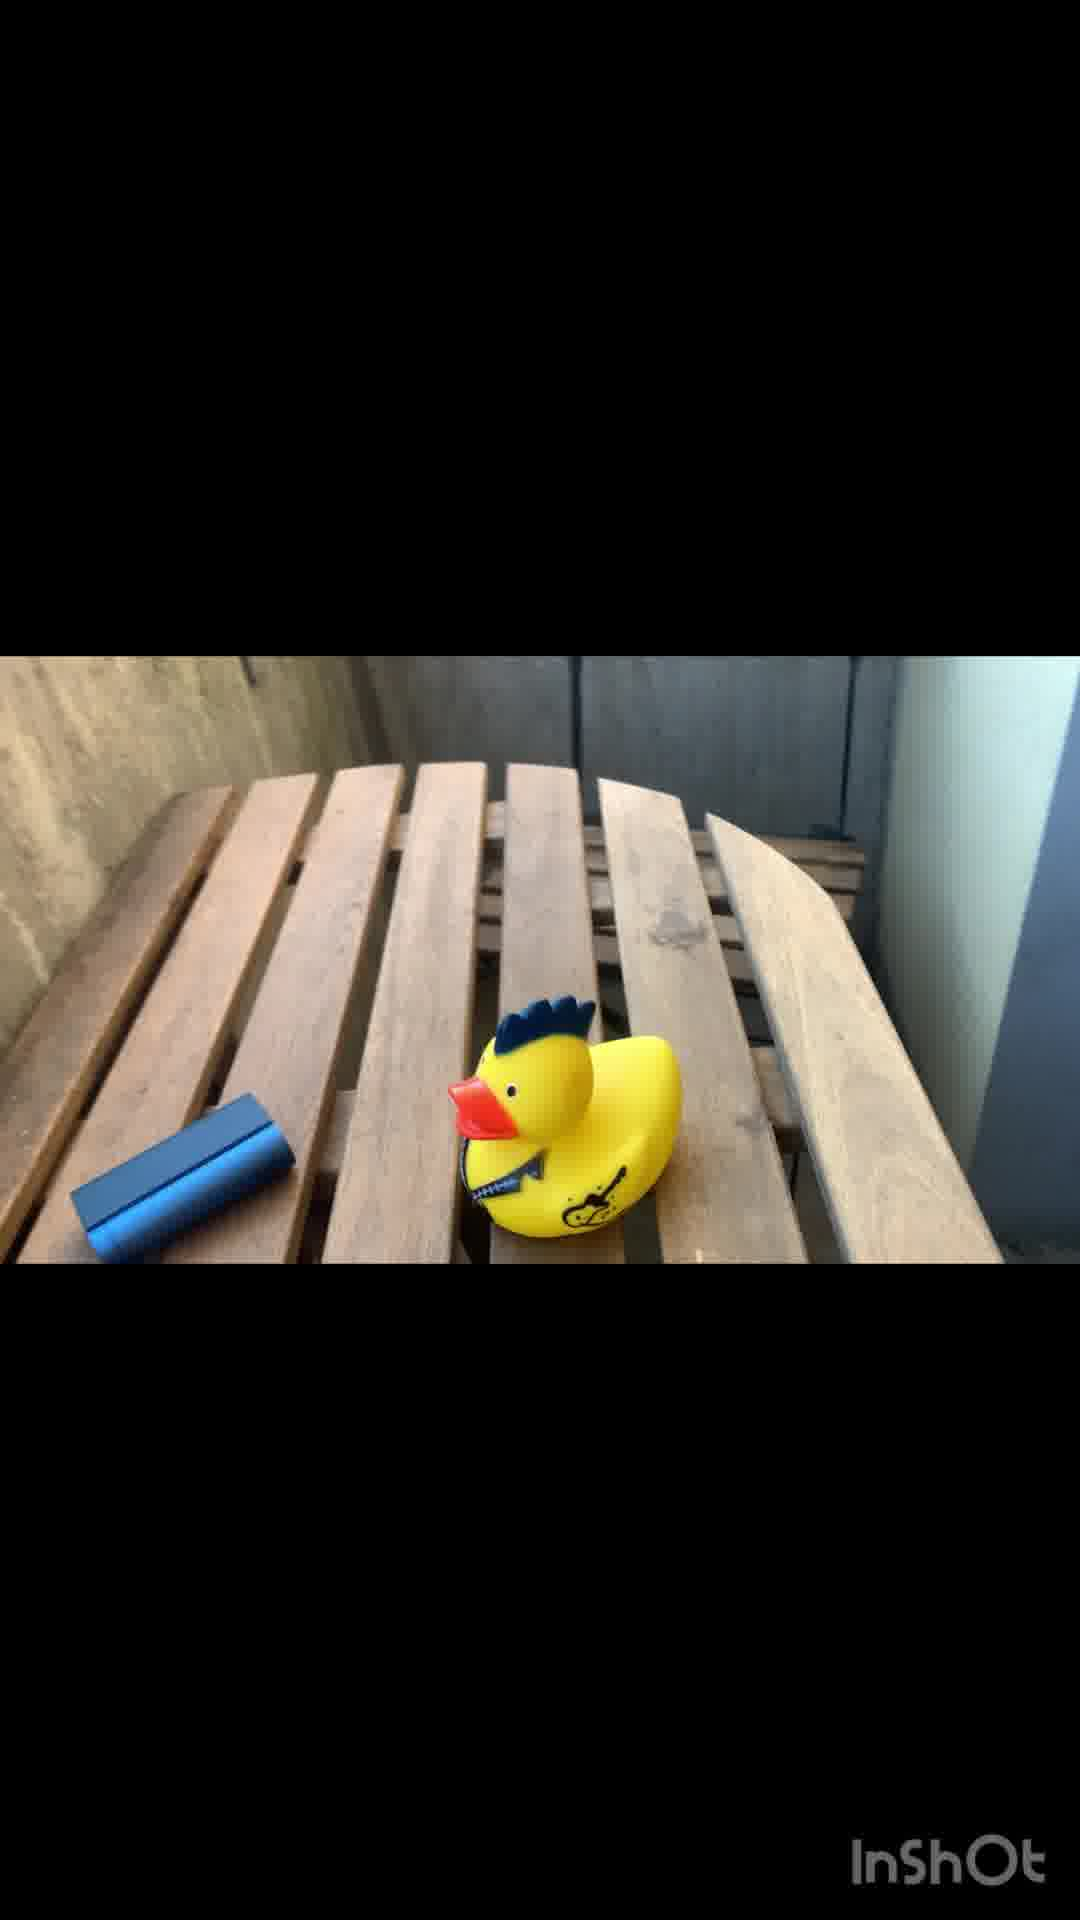duck: (472, 993, 700, 1240)
glo: (67, 1083, 298, 1257)
